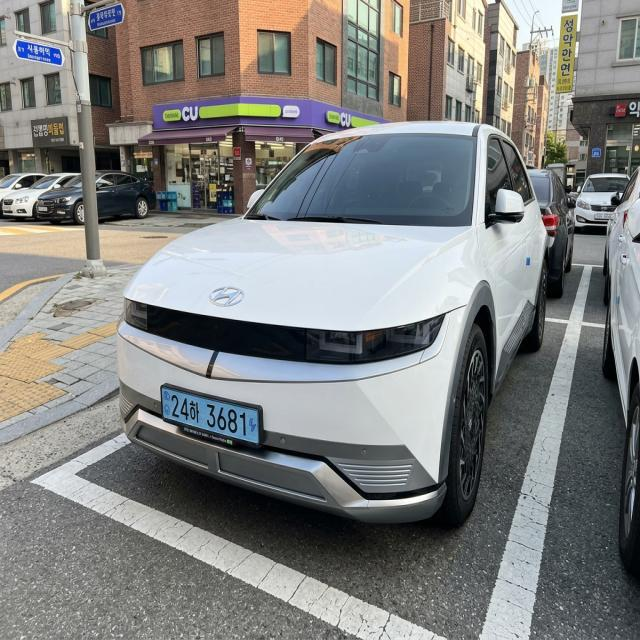car: (156, 372, 268, 454)
carev: (161, 388, 172, 422), (247, 414, 257, 438)
